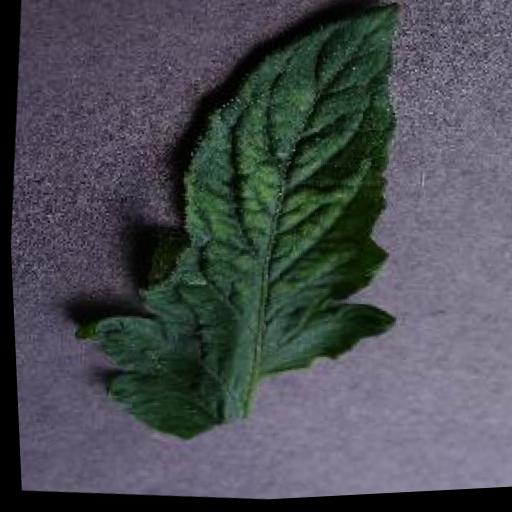Mosaic Virus: (52, 0, 424, 466)
